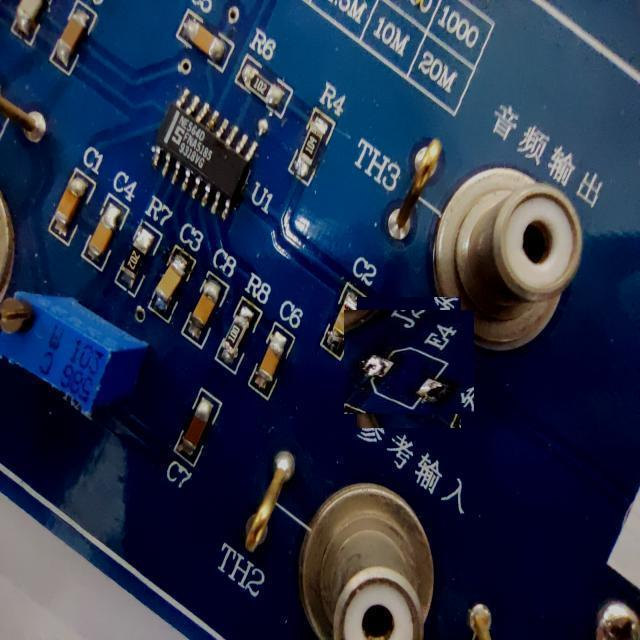miss_welding: (344, 310, 474, 414)
